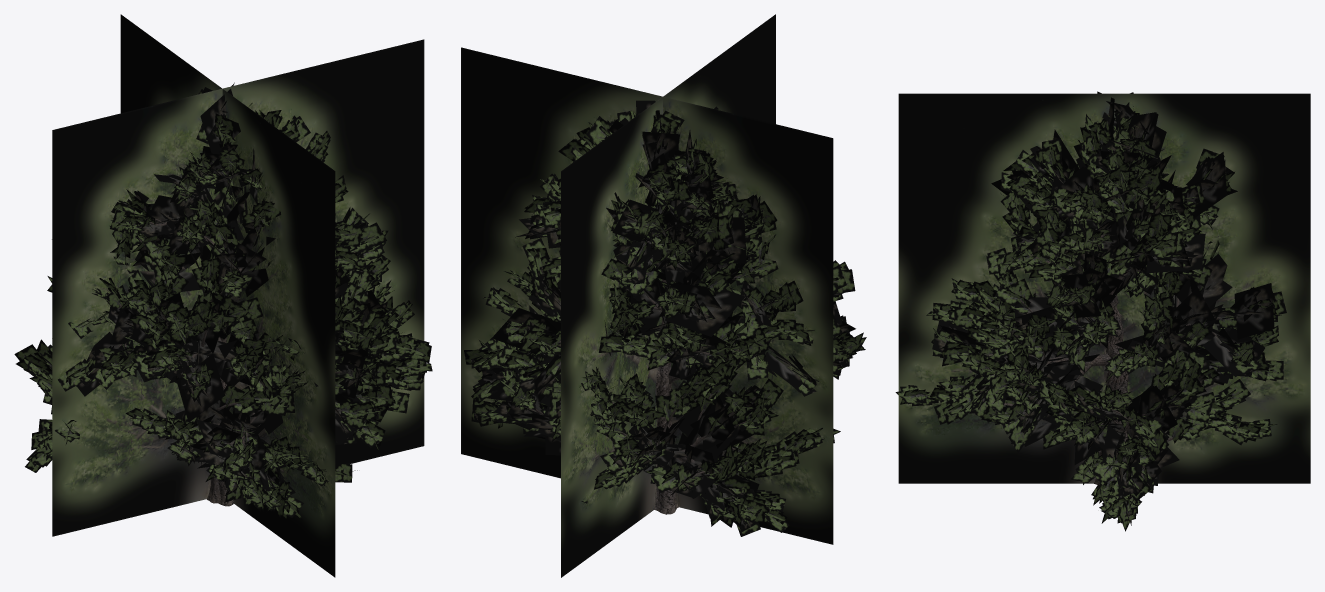
File: OakBigTree01.fbx
3 views of the same model, side by side, from view 1: azimuth 30°, elevation 25°; view 2: azimuth 150°, elevation 25°; view 3: azimuth 270°, elevation 25° (orthographic). The views are drawn at different scales.
Visible parts, largest first — view 1: Billboard, HQ_OakTree01_LOD0; view 2: Billboard, HQ_OakTree01_LOD0; view 3: HQ_OakTree01_LOD0, Billboard.
Boxes of the visible parts, bbox=[...] form: Billboard: bbox=[52, 14, 424, 577]; HQ_OakTree01_LOD0: bbox=[14, 82, 432, 521]; Billboard: bbox=[461, 14, 833, 577]; HQ_OakTree01_LOD0: bbox=[464, 100, 866, 536]; HQ_OakTree01_LOD0: bbox=[895, 91, 1286, 531]; Billboard: bbox=[898, 93, 1310, 483].
Size of what is drawn, in the model's own units: 3630 by 3792 by 3660.
